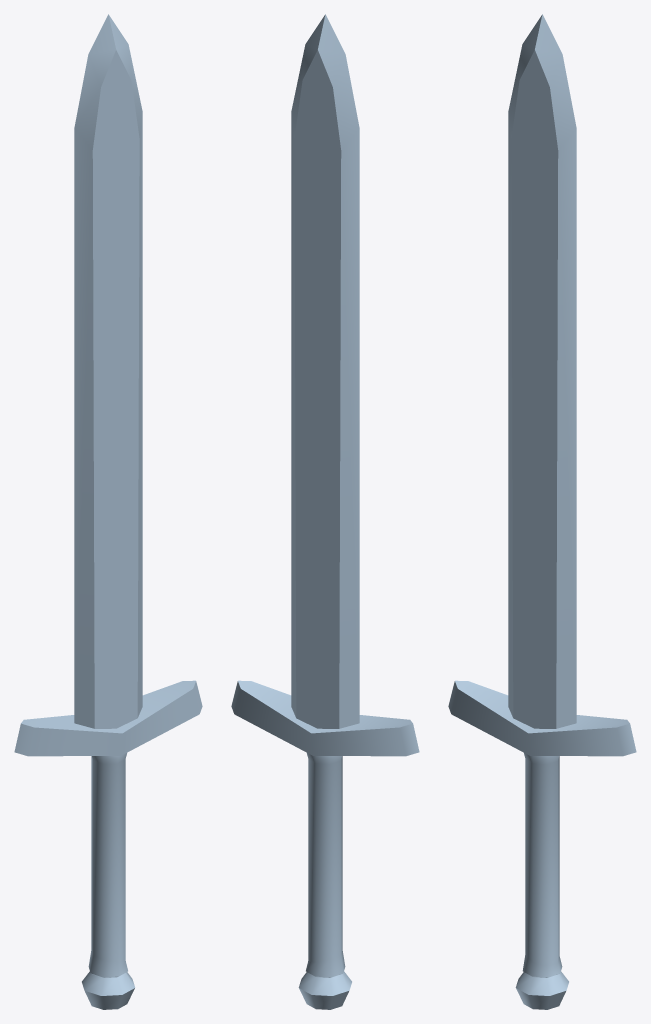
File: sword2hand.fbx
3 renders of one model, left to right at view 1: azimuth 30°, elevation 25°; view 2: azimuth 150°, elevation 25°; view 3: azimuth 330°, elevation 25°, orthographic.
Visible parts, largest first — view 1: sword_two_handed; view 2: sword_two_handed; view 3: sword_two_handed.
Boxes of the visible parts, left/top/right/bottom form: sword_two_handed: left=14, top=14, right=202, bottom=1009; sword_two_handed: left=231, top=14, right=419, bottom=1009; sword_two_handed: left=448, top=14, right=636, bottom=1009.
Size of the model in its own units: 30.48 by 153 by 7.89.
